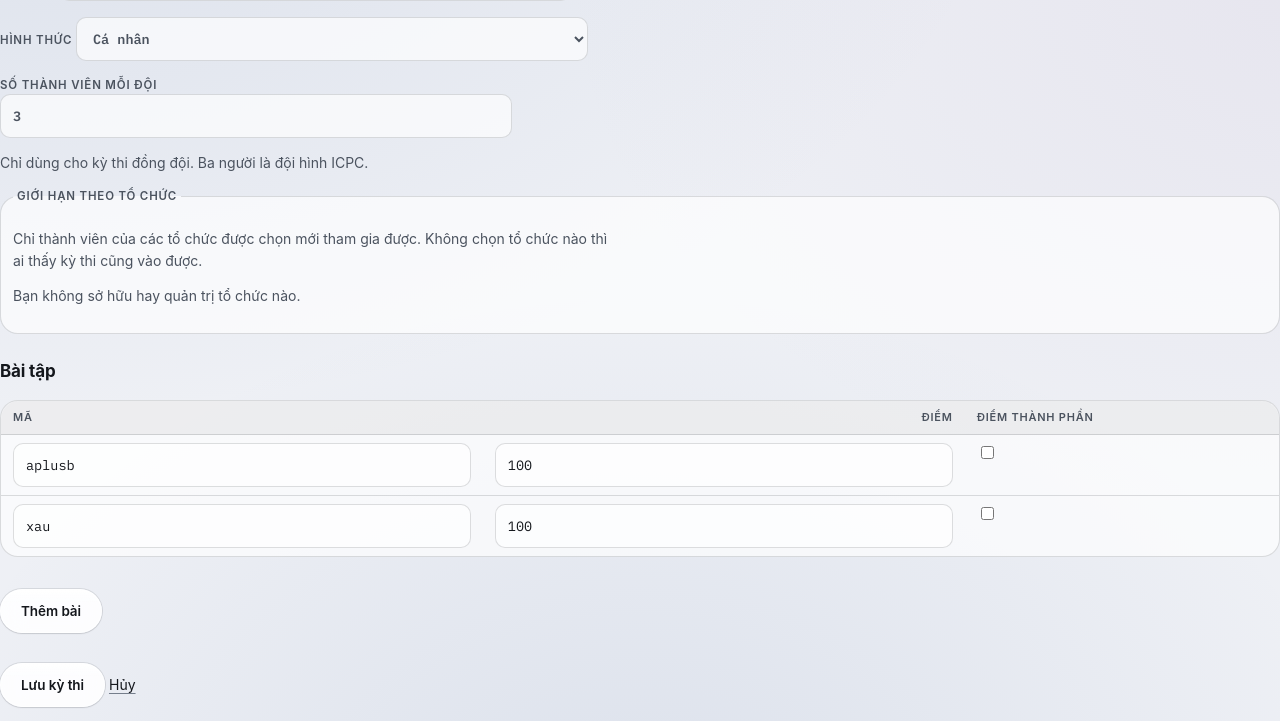
Test: the contest edit form while a co-organiser is saving (D161) › refuses to send the stale problem list back, and keeps it on screen until the organiser chooses
This screenshot has width=1280, height=721.
(page scrolled)
Expected: the field named "Mã bài 1" is shown, [13, 443, 471, 487]
Step 1. Clear the field named "Mã bài 2" → (242, 526), box [13, 504, 471, 548]
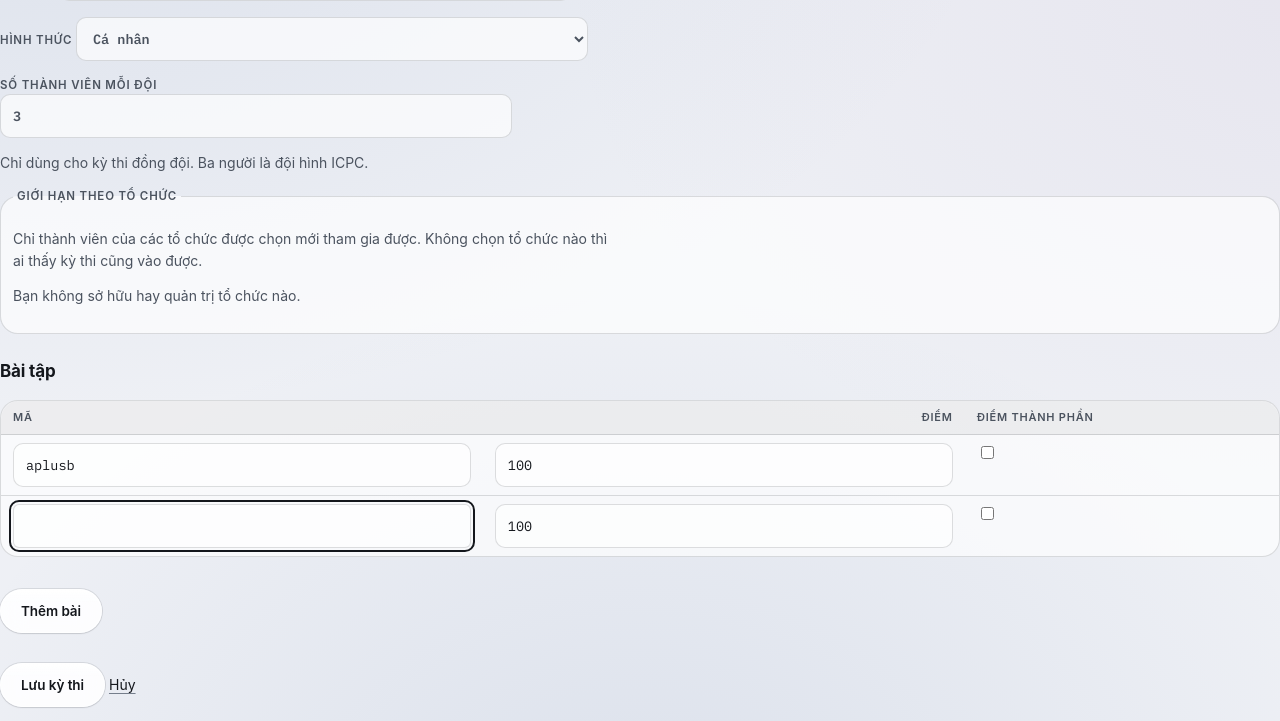
Step 2. Click the button "Lưu kỳ thi" → (52, 685), box [0, 663, 105, 707]
(page scrolled)
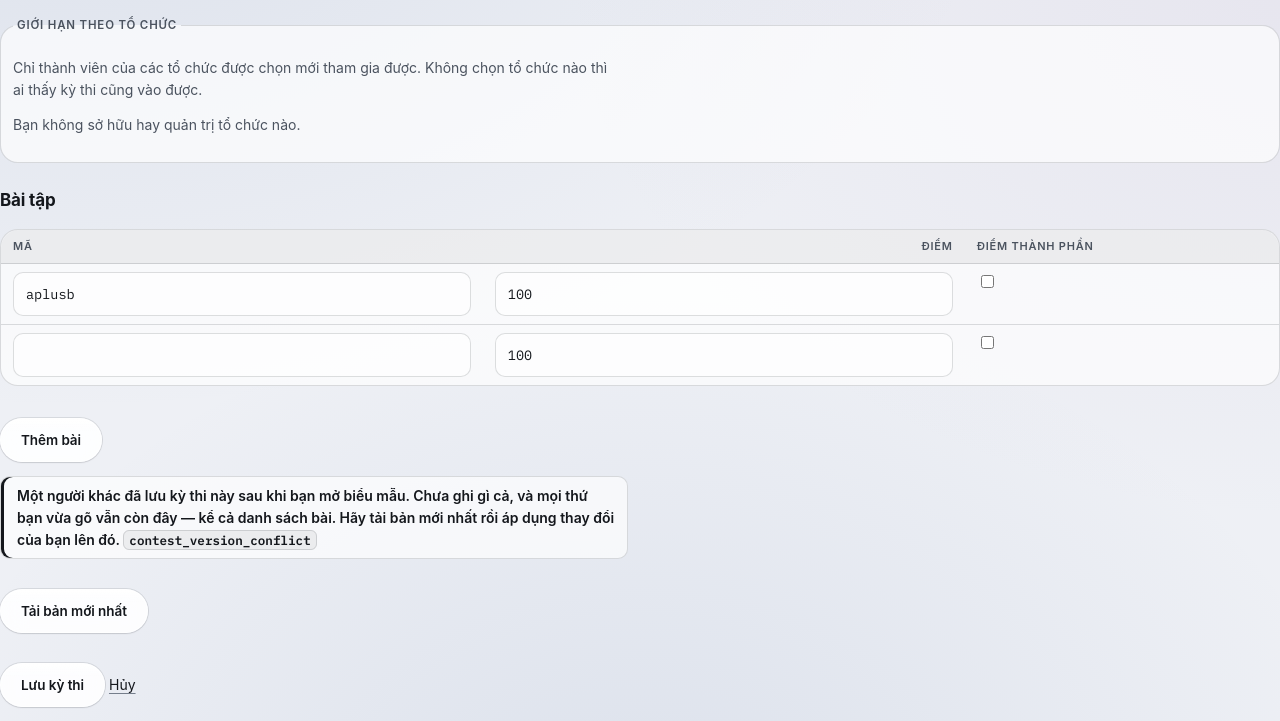
Expected: the field named "Mã bài 1" holds "aplusb", [13, 272, 471, 316]
Result: the text "Một người khác đã lưu kỳ thi này" is shown at [17, 487, 614, 548]
Result: the button "Tải bản mới nhất" is shown at [0, 589, 148, 633]
